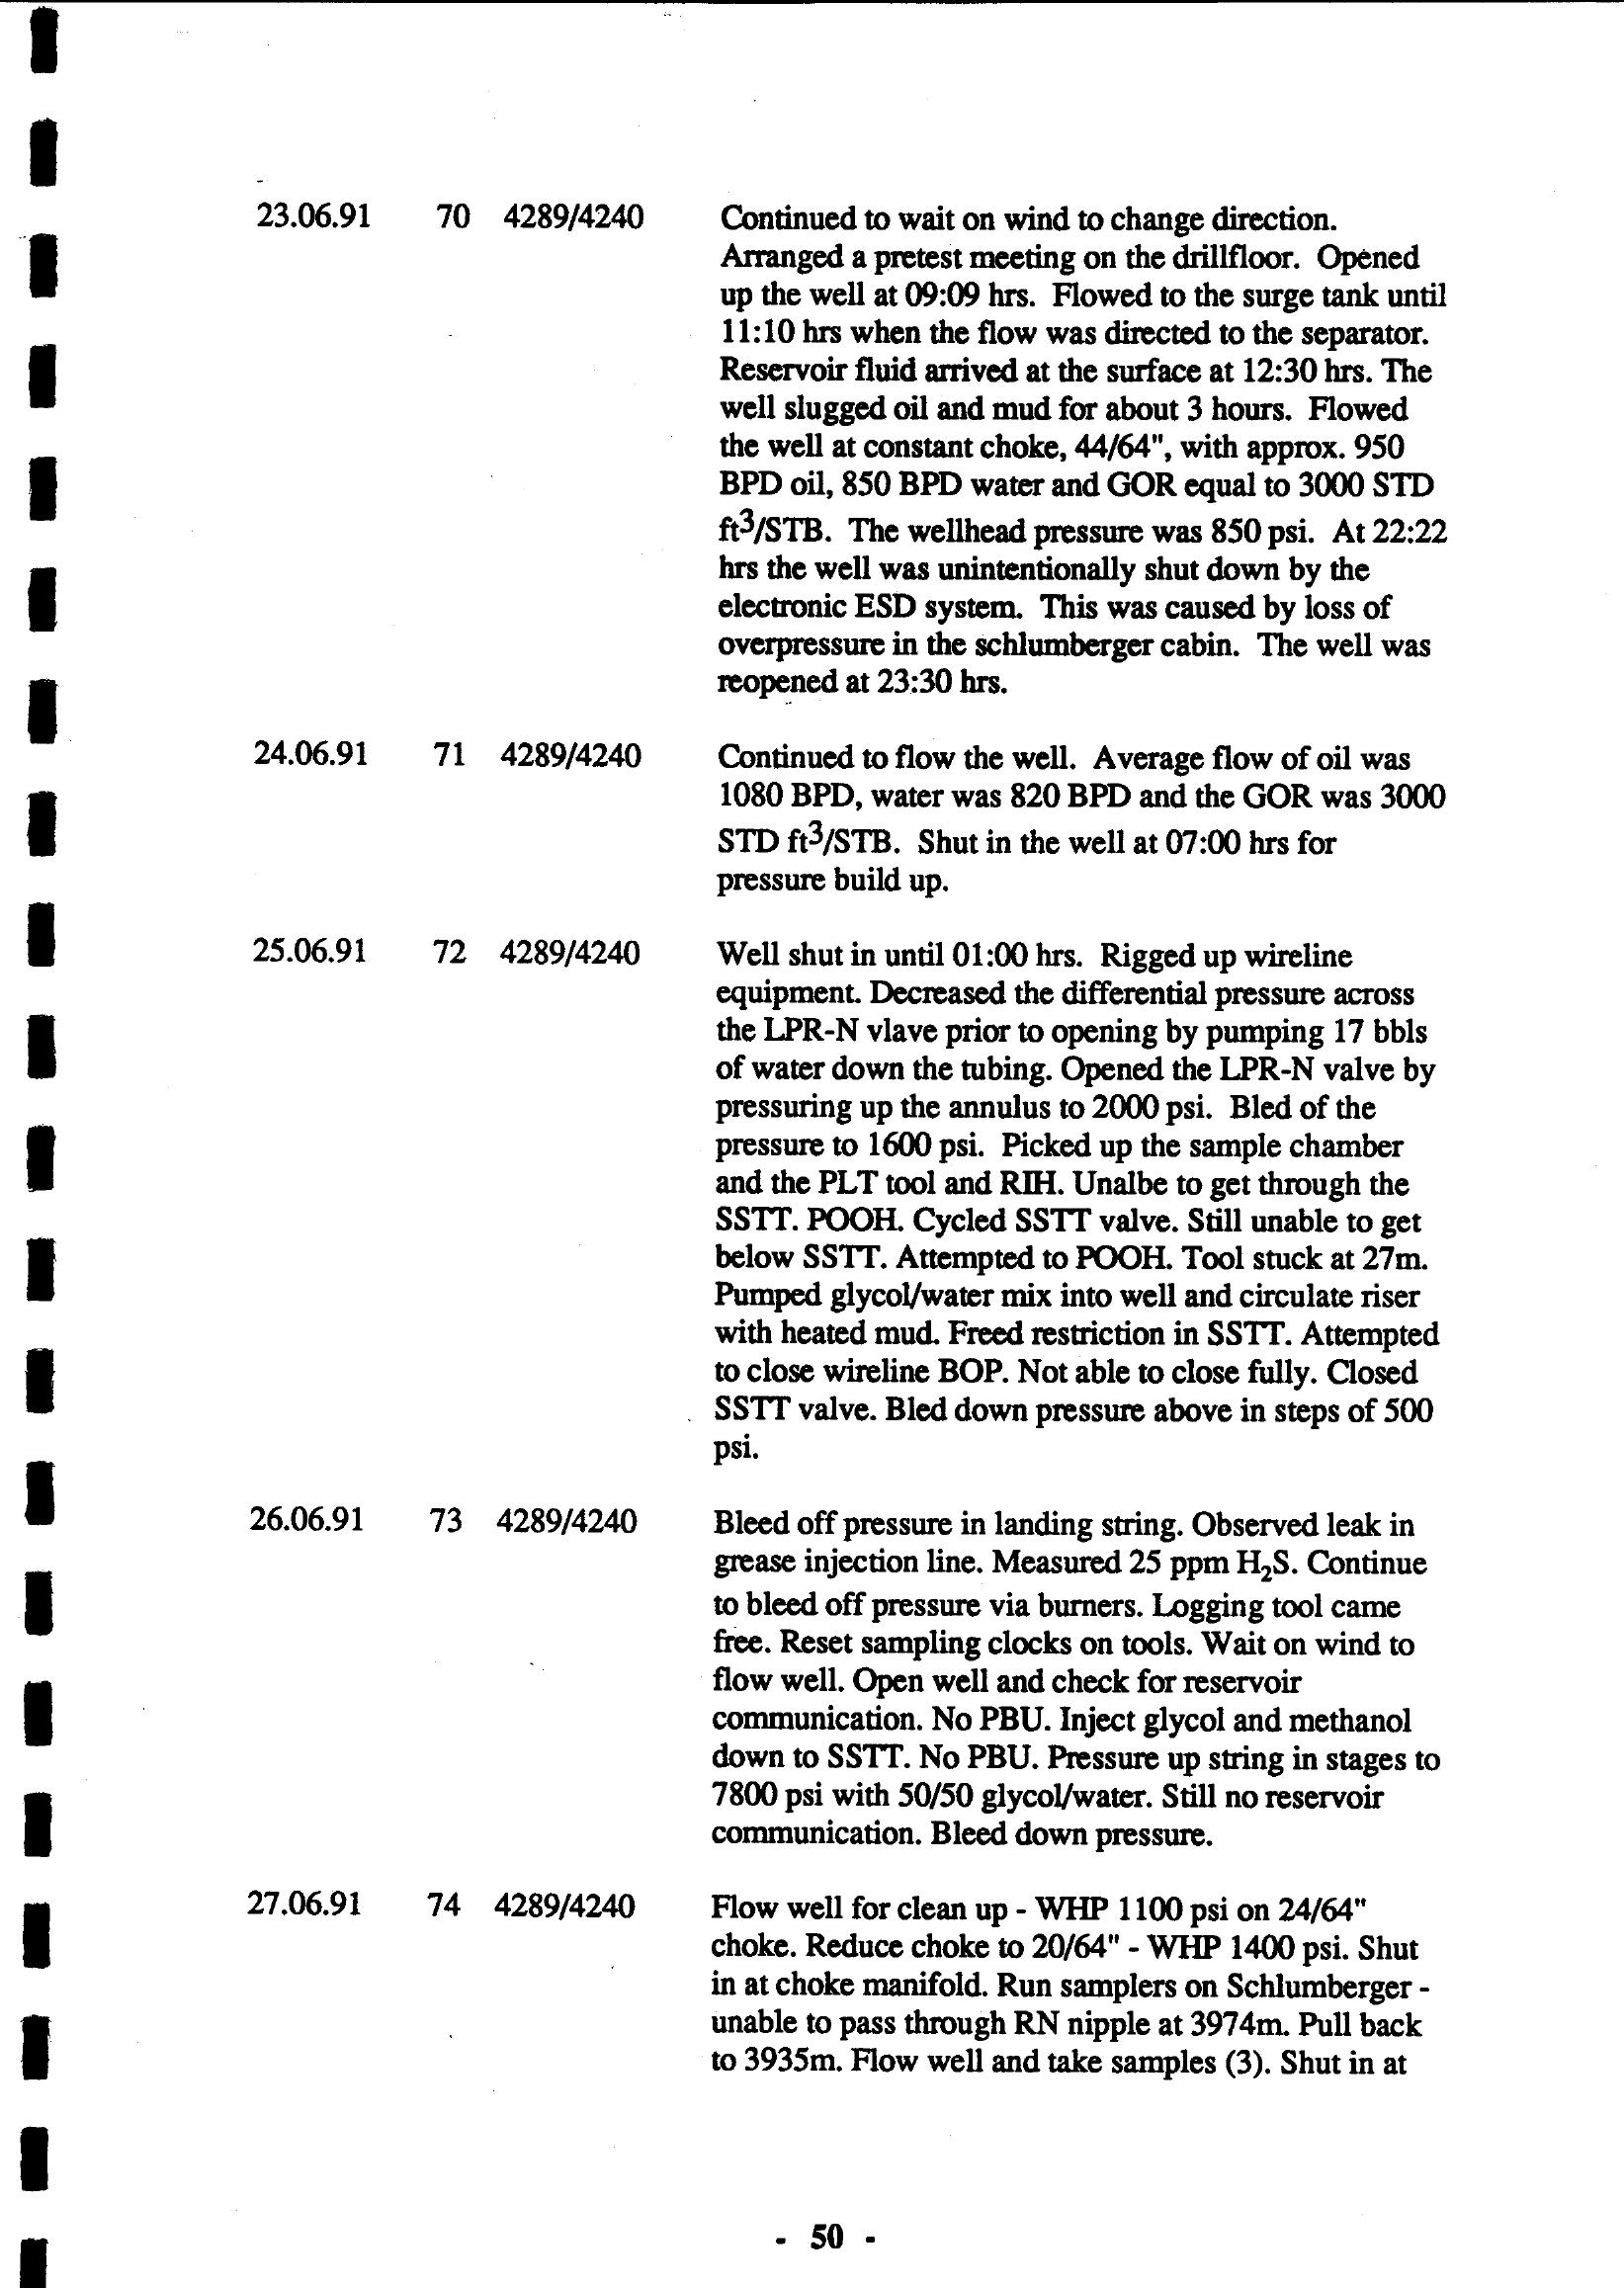text: (181, 160, 1492, 2100)
